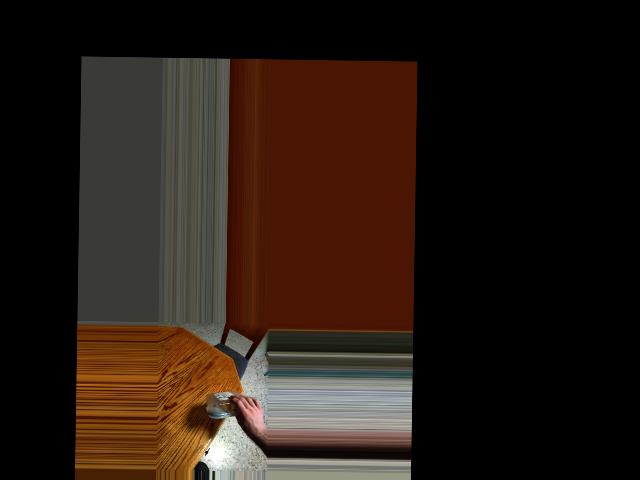cheese: (211, 388, 253, 423)
